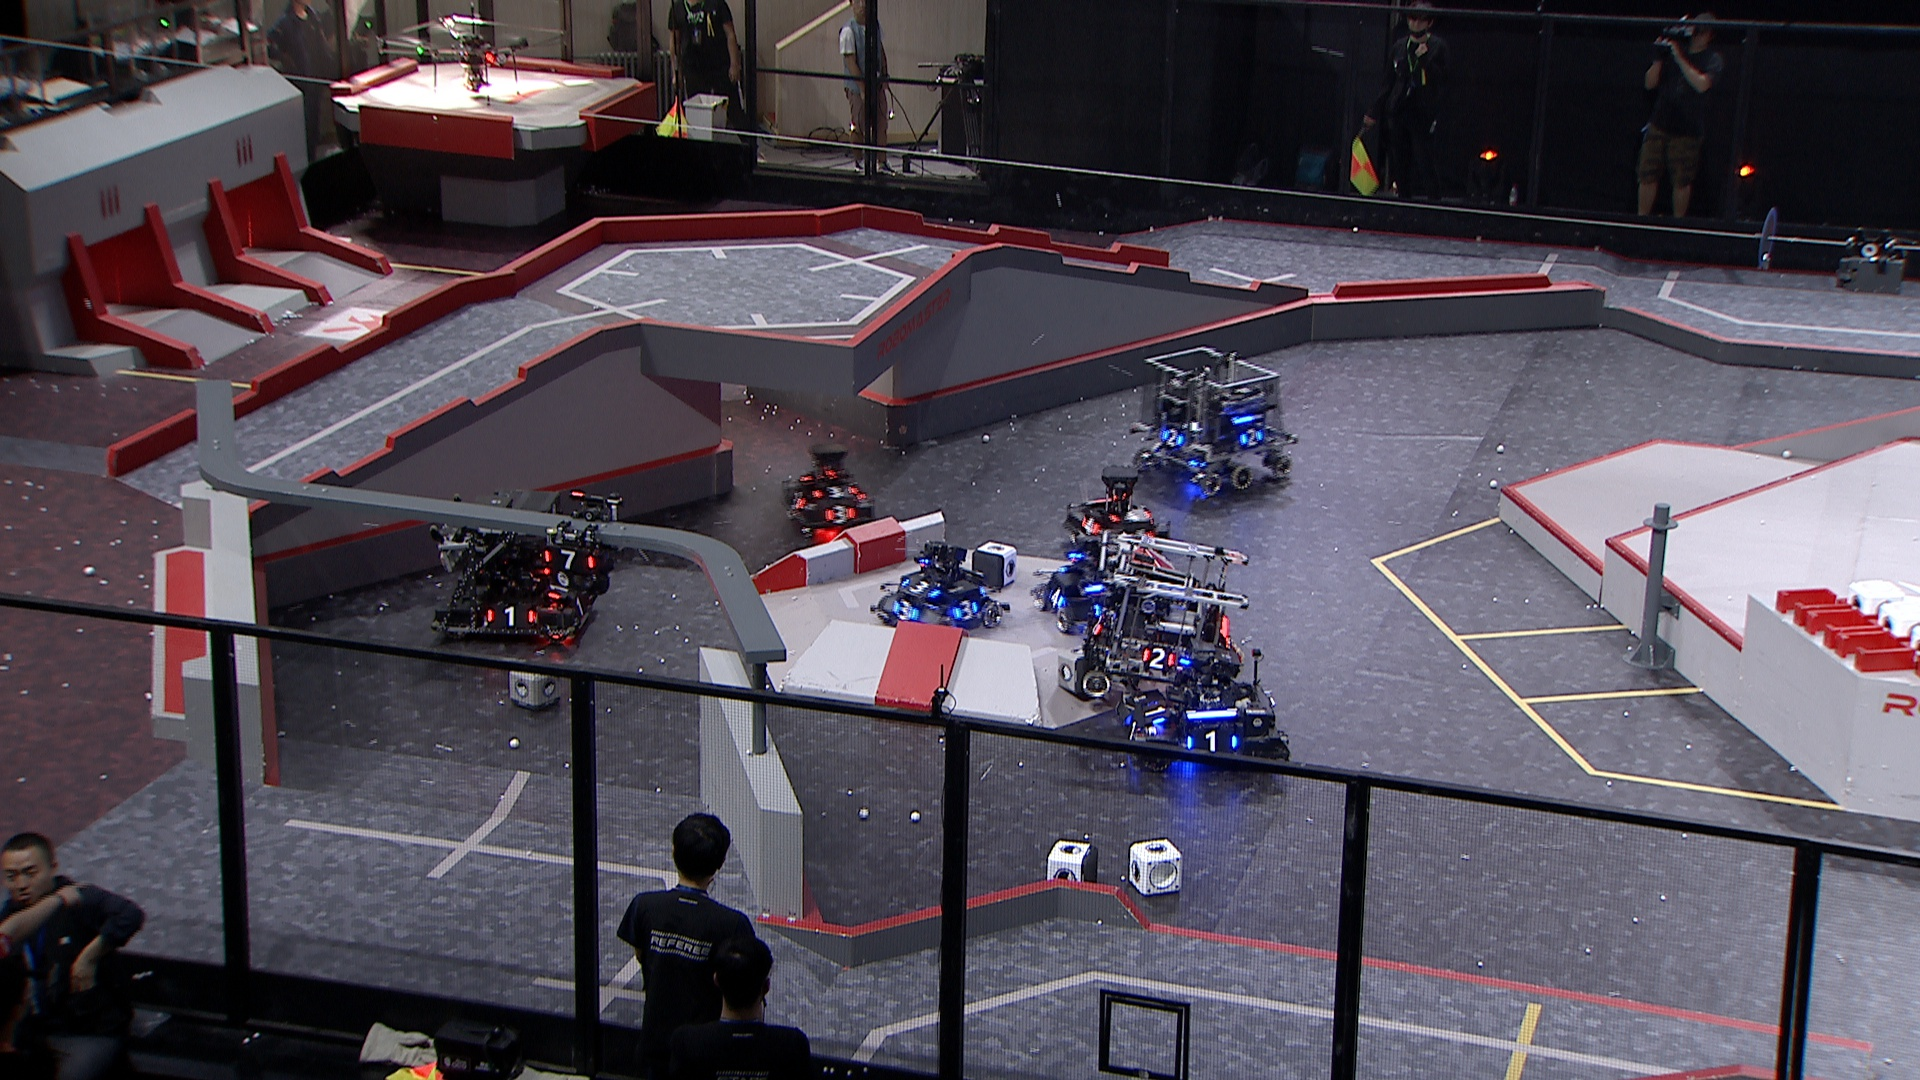armor: (481, 605, 539, 629), (1183, 731, 1240, 754), (543, 547, 596, 572), (901, 576, 944, 599), (1138, 647, 1178, 671), (949, 597, 982, 622), (1143, 699, 1168, 731), (812, 484, 860, 500), (891, 603, 923, 622), (1156, 427, 1185, 448), (825, 504, 856, 524), (541, 582, 572, 600), (1106, 510, 1150, 524), (1238, 429, 1267, 448), (787, 491, 808, 514), (1122, 713, 1139, 742), (568, 595, 588, 618), (1079, 516, 1102, 535), (1088, 616, 1106, 638), (1048, 588, 1067, 611)
car: (1073, 531, 1253, 707), (429, 491, 603, 647), (1127, 345, 1302, 498), (1114, 640, 1288, 783), (873, 541, 1007, 632), (1030, 533, 1145, 632), (779, 442, 882, 537), (1063, 465, 1174, 553)
watcher: (531, 491, 626, 597)
